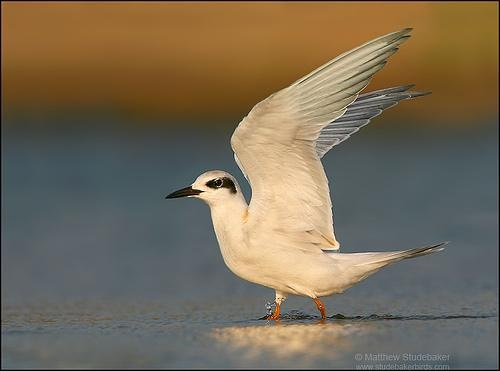bird: (164, 26, 442, 324)
